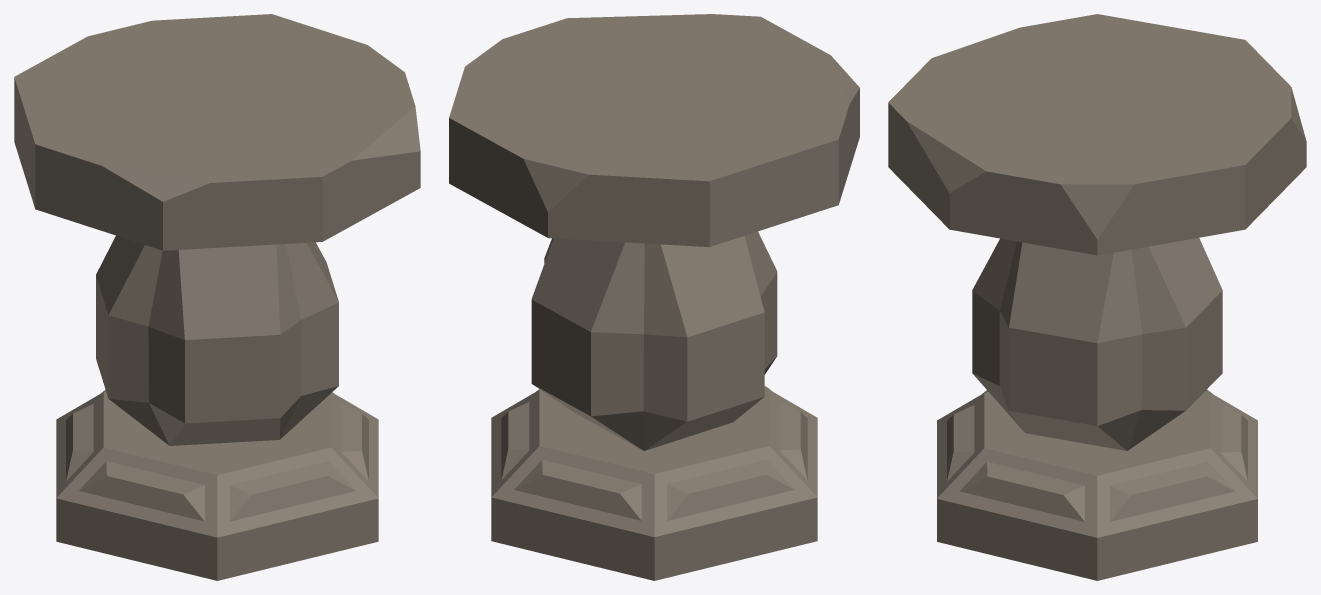
Rendered from forge_stool.gltf.
The picture shows the model from 3 angles, left to right: view 1: azimuth 30°, elevation 25°; view 2: azimuth 150°, elevation 25°; view 3: azimuth 270°, elevation 25°; orthographic projection.
Parts seen in each view (by area): view 1: forge_stool; view 2: forge_stool; view 3: forge_stool.
Boxes of the visible parts, bbox=[...] form: forge_stool: bbox=[14, 14, 420, 580]; forge_stool: bbox=[449, 14, 859, 580]; forge_stool: bbox=[888, 14, 1306, 580].
Size of the model in its own units: 0.4406 by 0.4649 by 0.4406.
Materials: 1 (1 with a texture image).
